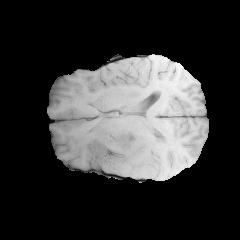glioma: (110, 132, 168, 164)
